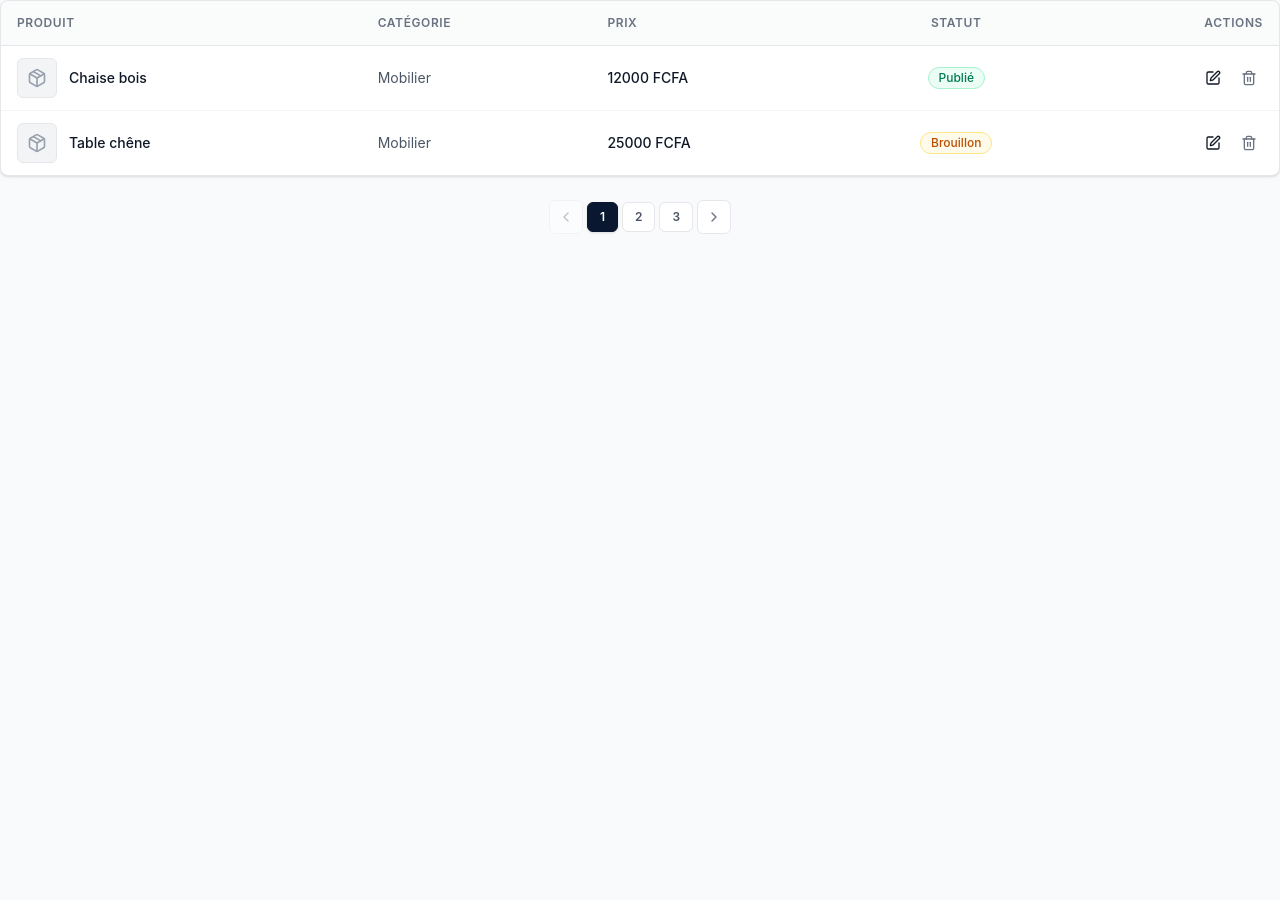
Test: AdminProductTable — suppression › ferme la modale au clic sur Annuler
The width and height of the screenshot is (1280, 900).
Click the button named "supprimer chaise bois" at (1249, 78), box [1235,64,1263,92]
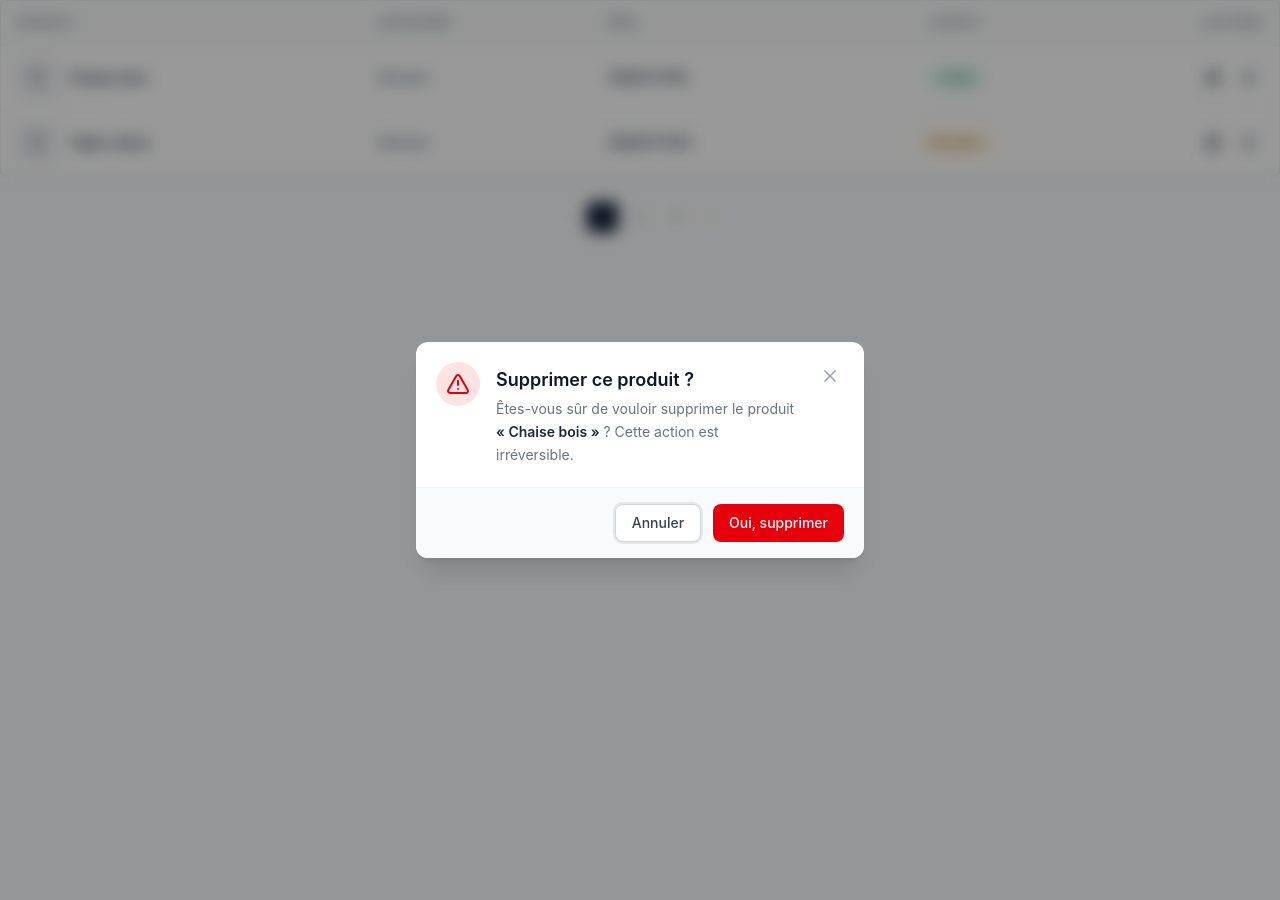
Click the button "Annuler" at (658, 523), box [615,504,701,542]
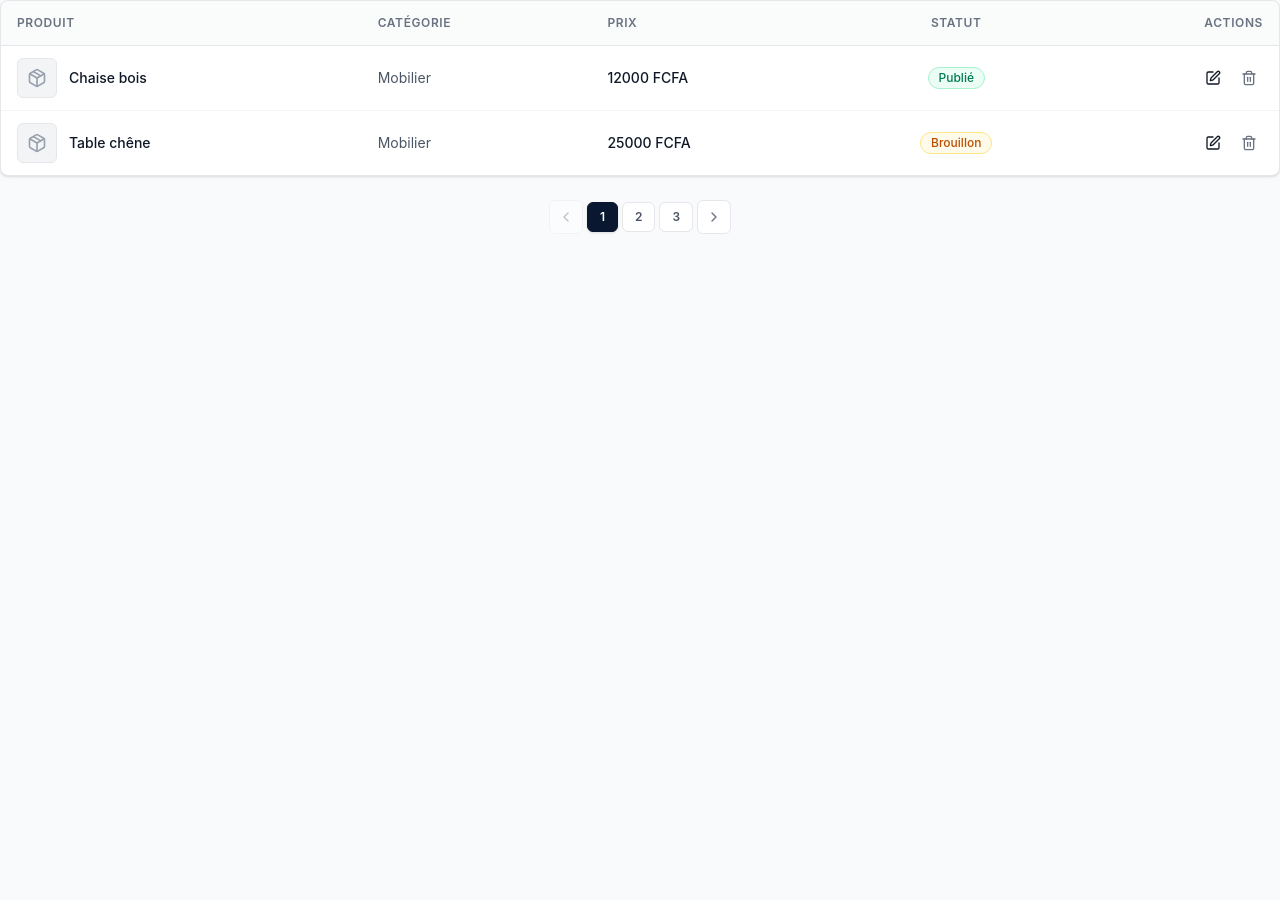
Check: the dialog is gone
